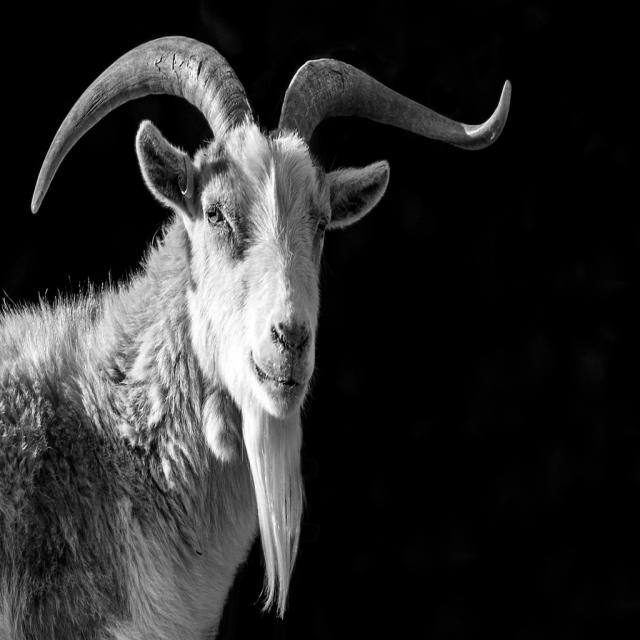Sheep: (9, 4, 504, 640)
